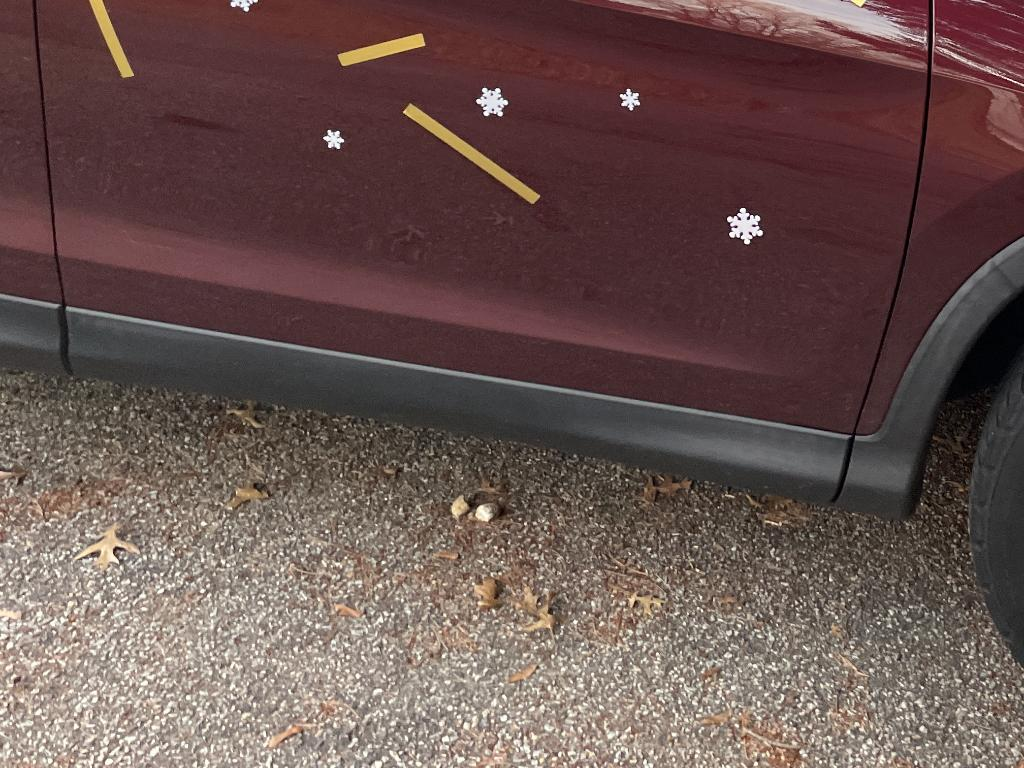dent: (726, 204, 768, 252), (474, 84, 516, 120), (616, 85, 644, 113), (322, 127, 348, 151), (225, 0, 261, 14)
scratch: (394, 96, 544, 208), (332, 22, 428, 76), (78, 0, 137, 84), (800, 0, 872, 13)
